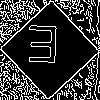E: (25, 25, 60, 72)
